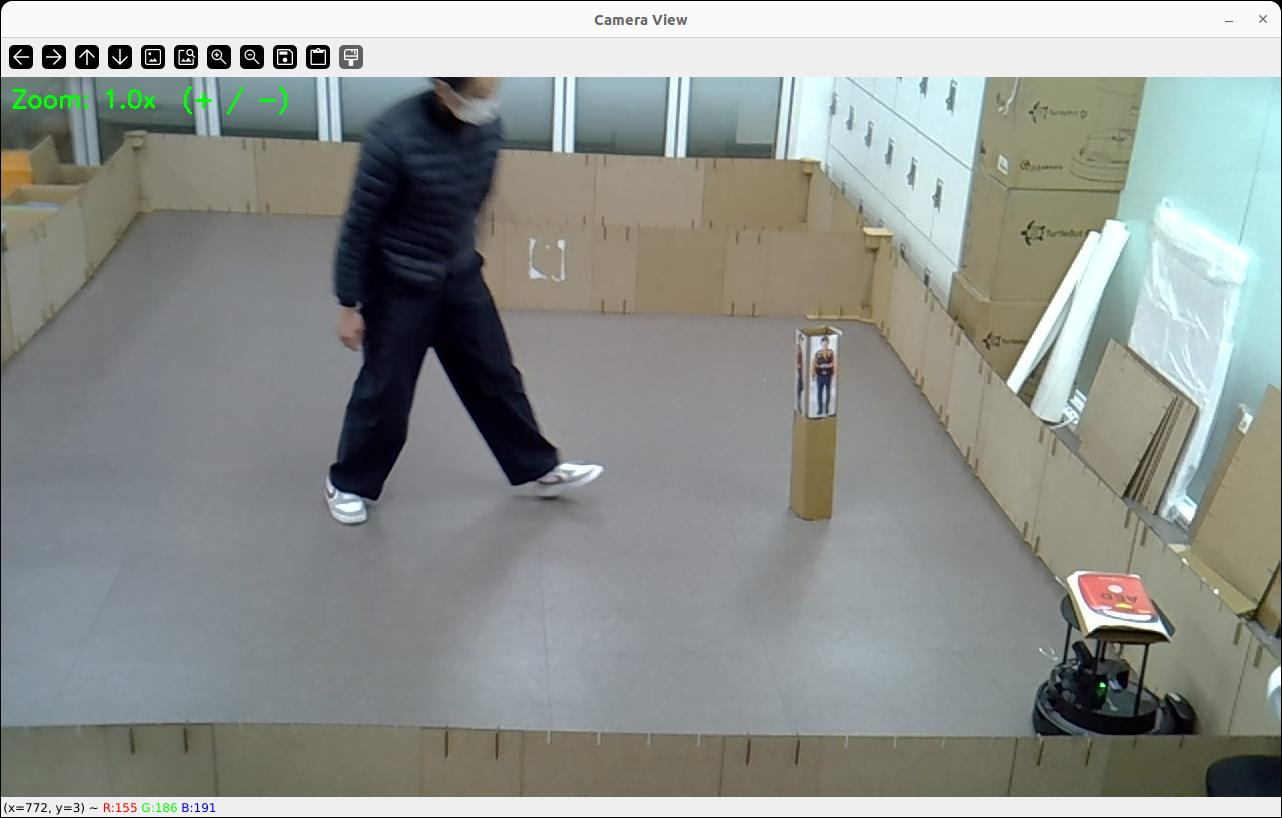AED: (1069, 571, 1169, 643)
Responder: (812, 336, 836, 414)
Robot: (1033, 591, 1195, 734)
